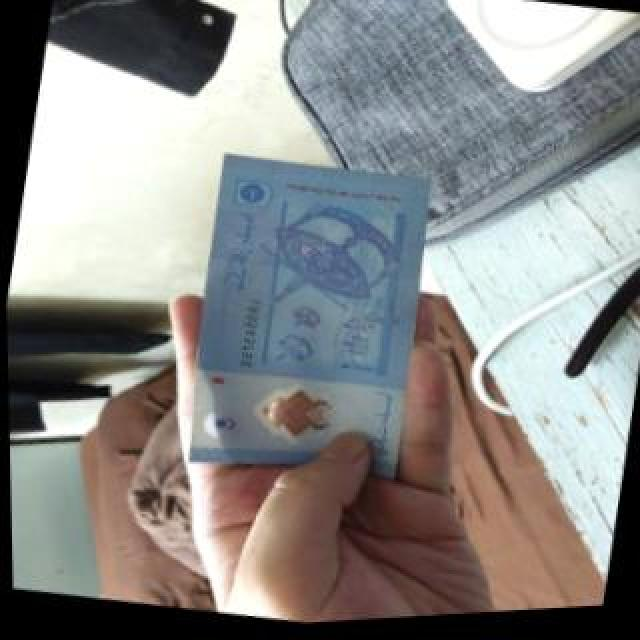1 Ringgit: (162, 146, 452, 511)
